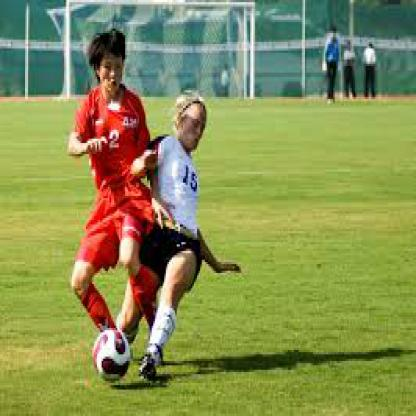Fall_Down: (118, 98, 246, 384)
